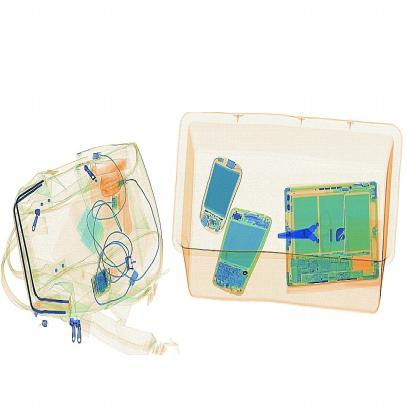gun: (272, 207, 350, 260)
